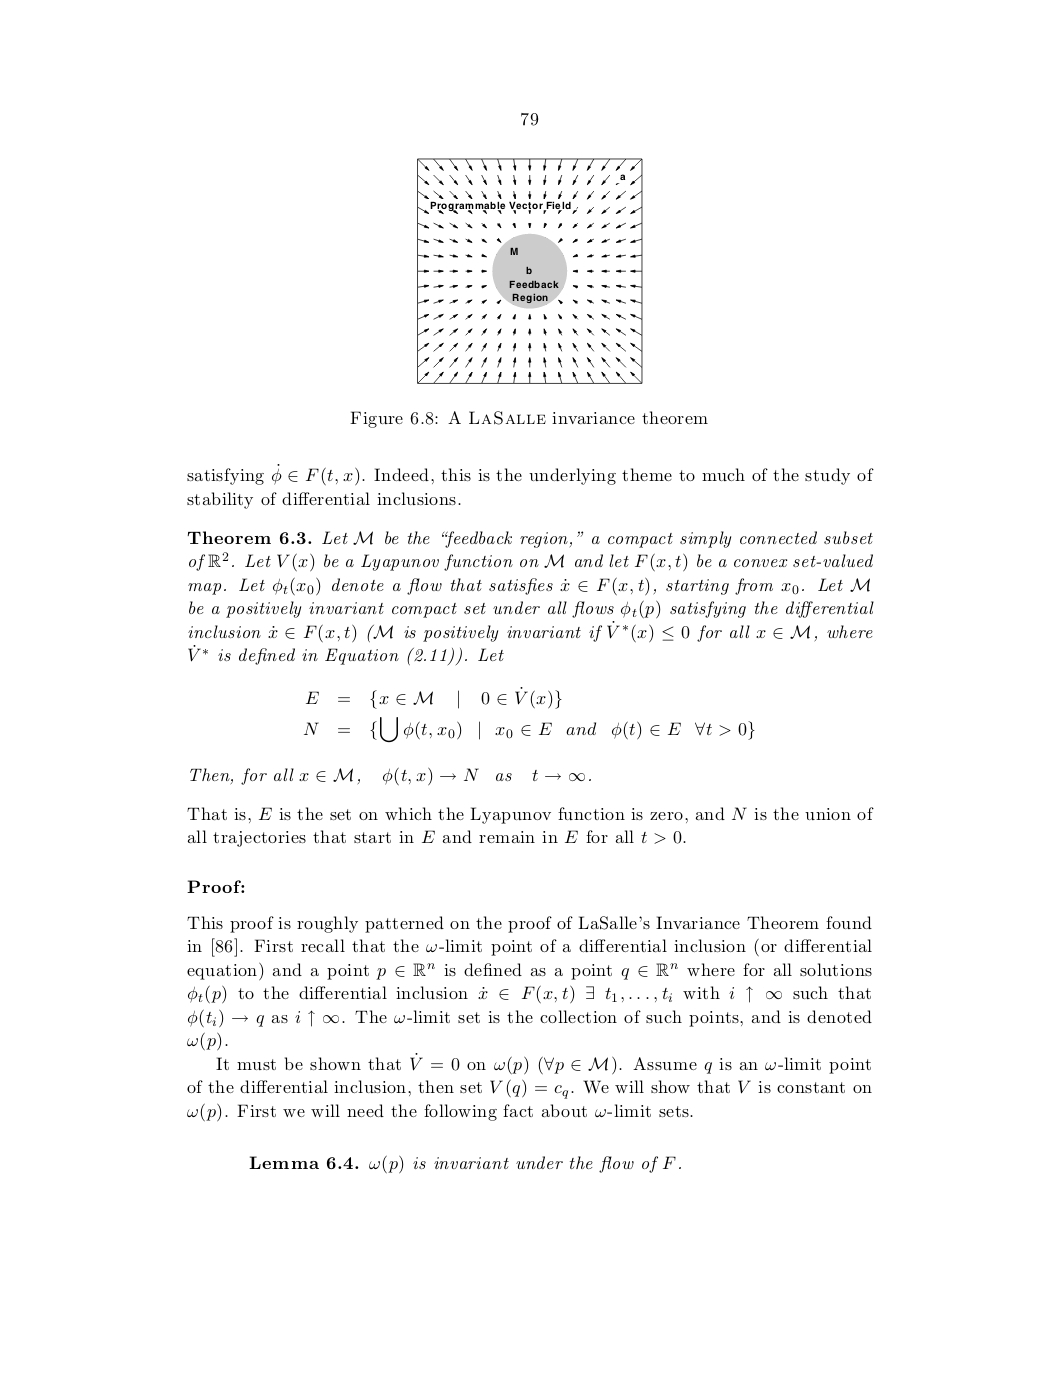figure: (417, 157, 642, 384)
formula: (303, 715, 755, 743), (305, 685, 561, 709)
